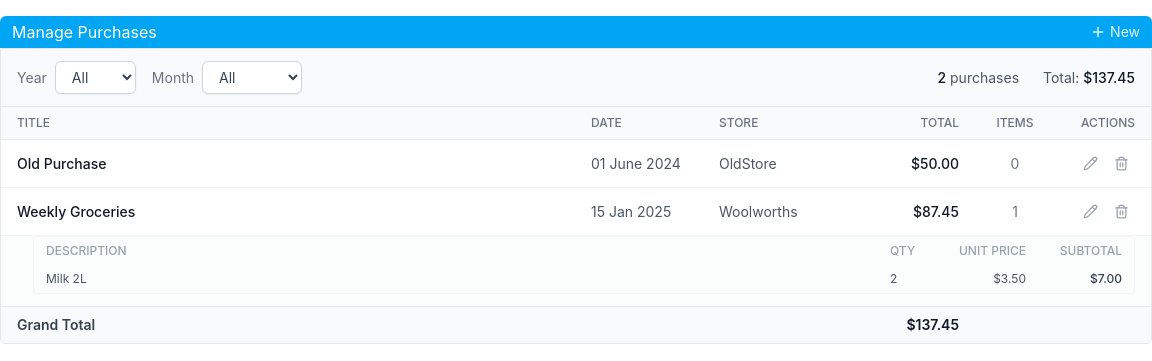
Test: EditTable › filters purchases by year, hiding purchases from other years
The image size is (1152, 361).
Expected: the text "Old Purchase" is shown, [17, 154, 106, 172]
Select "2025" in the dropdown labelled "Year" at (95, 78), box [55, 61, 136, 94]
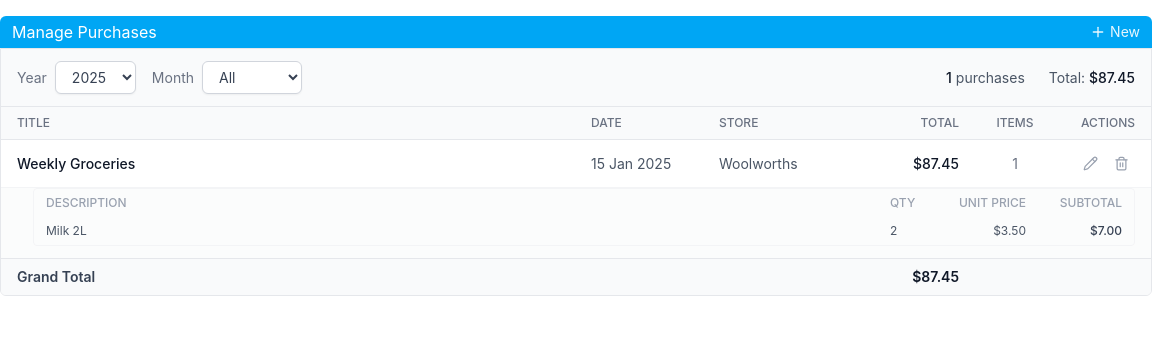
Expected: the text "Weekly Groceries" is shown, [17, 154, 135, 172]
Expected: the text "Old Purchase" is gone
